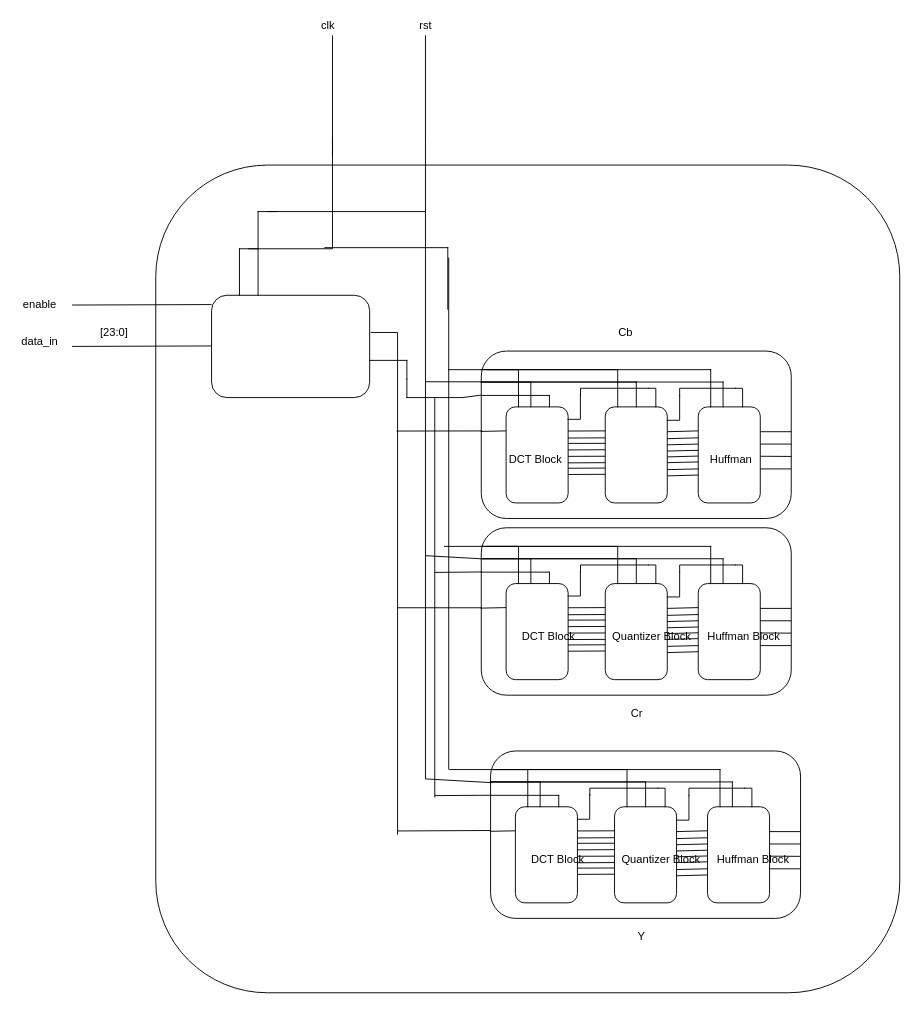
The diagram is 916 pixels wide and 1009 high, and some of its shapes have lost their labels. Each missing label, with the box of its shape:
Quantizer: (604, 406, 667, 503)
RGB2YCbCr: (211, 294, 370, 398)
